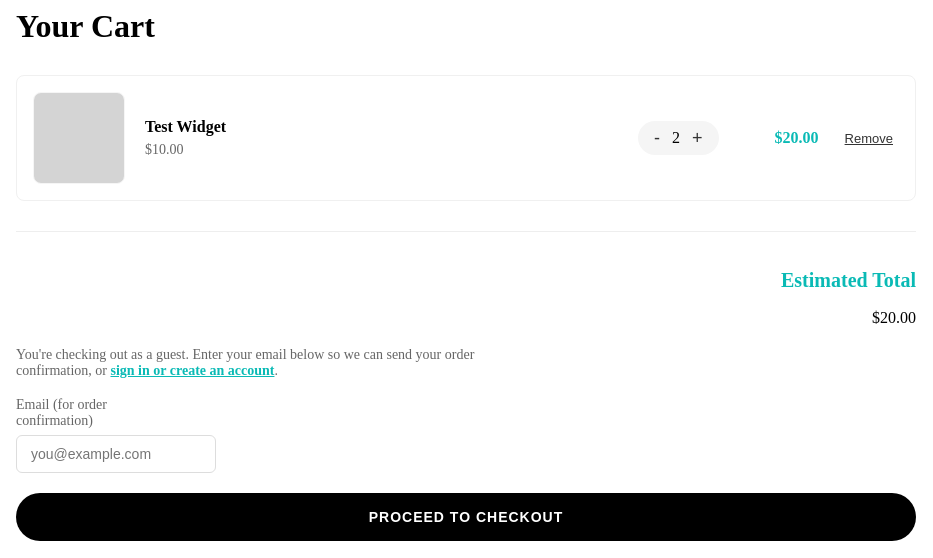
Test: CartPage › clicking Remove empties the cart
Expected: the heading "Test Widget" is shown, [145,118,226,135]
Click the button "Remove" at (869, 138), box [839,130,899,147]
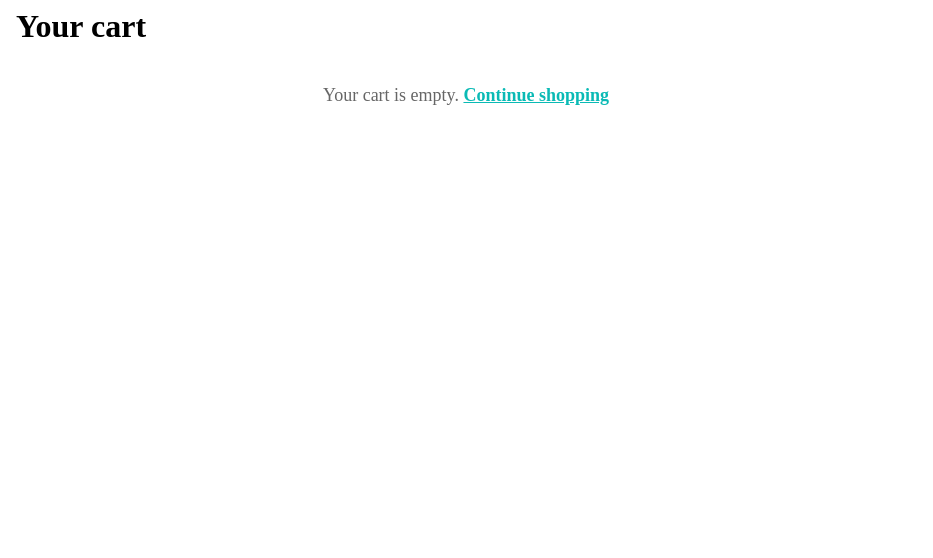
Now the text "Your cart is empty. Continue shopping" is shown, box [323,85,609,105]
